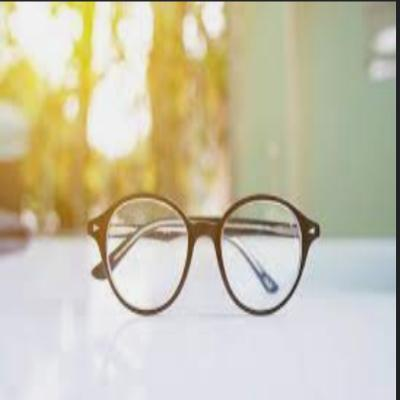glasses: (83, 190, 323, 322)
